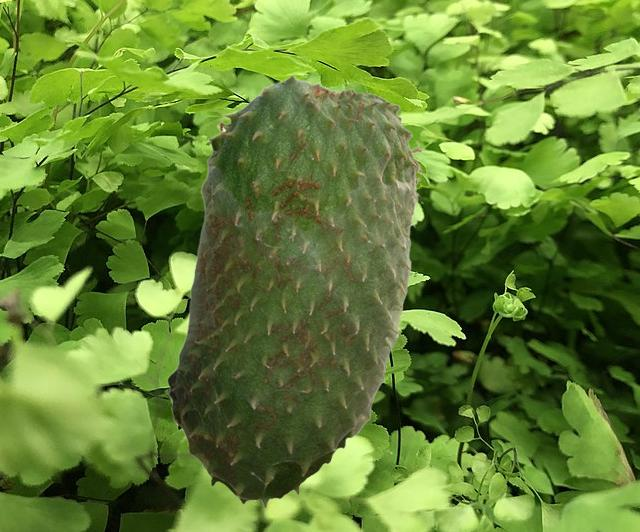guyabano: (164, 73, 424, 507)
